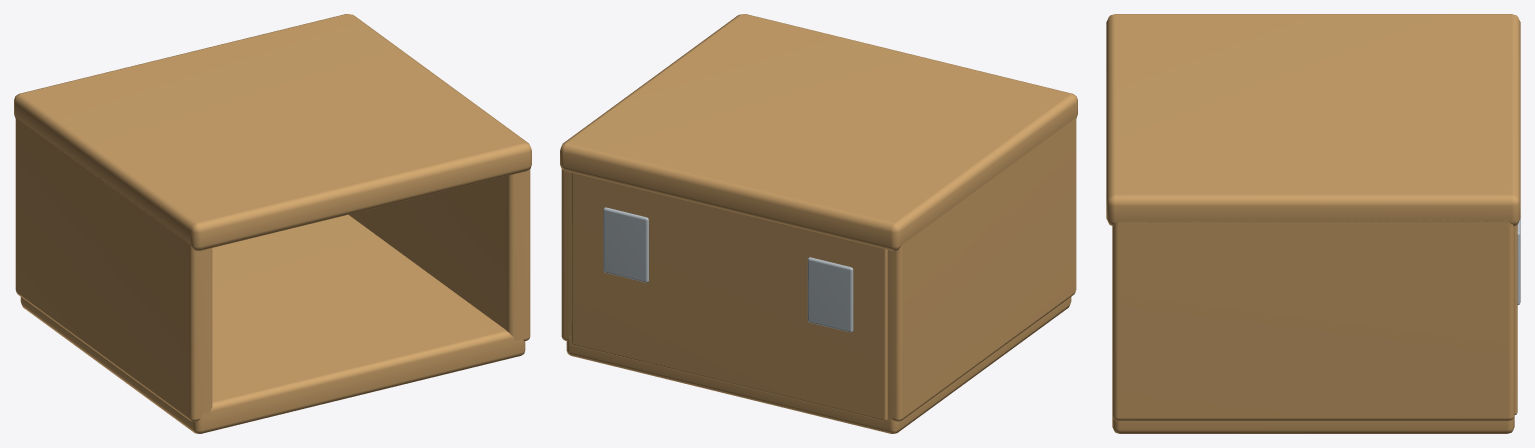
The model's file is apartment-bedside-floating-cubby.glb.
The picture shows the model from 3 angles, left to right: view 1: azimuth 30°, elevation 25°; view 2: azimuth 150°, elevation 25°; view 3: azimuth 270°, elevation 25°; orthographic projection. The views are drawn at different scales.
Visible parts, largest first — view 1: catalog_surface_RealismUV; view 2: catalog_surface_RealismUV; view 3: catalog_surface_RealismUV.
Part boxes in pixels (x1,y1,x2,y2): catalog_surface_RealismUV: (14,14,531,433); catalog_surface_RealismUV: (560,14,1077,433); catalog_surface_RealismUV: (1106,14,1520,433).
Bounding box in the file's own units: 0.3 × 0.18 × 0.28.
